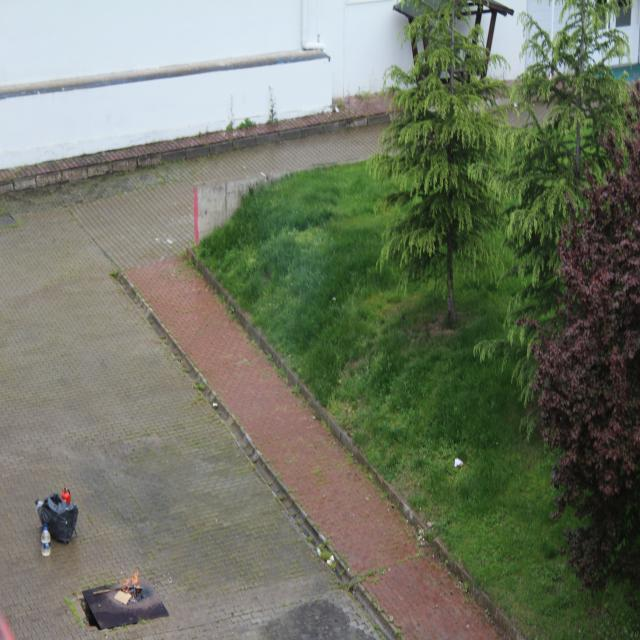fire: (124, 566, 142, 599)
